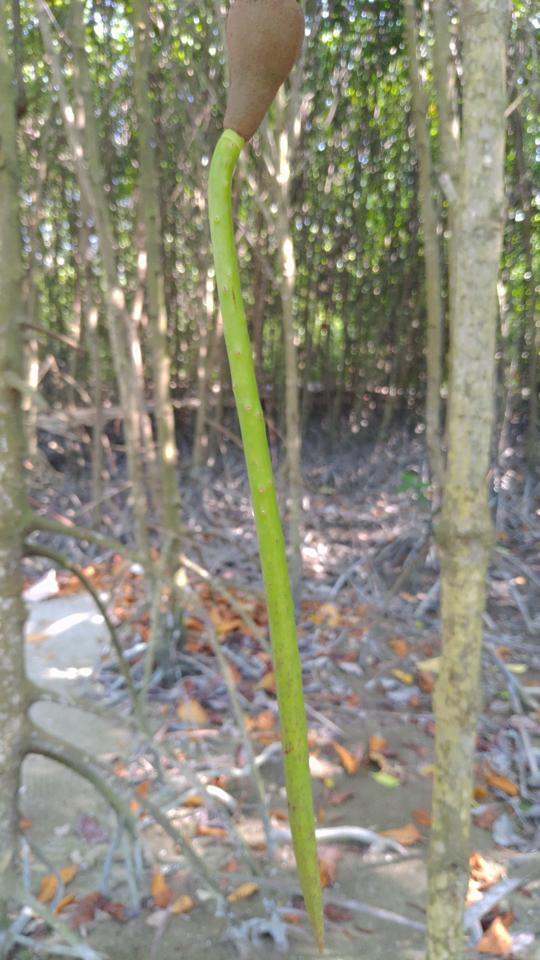setengah matang: (189, 1, 346, 953)
